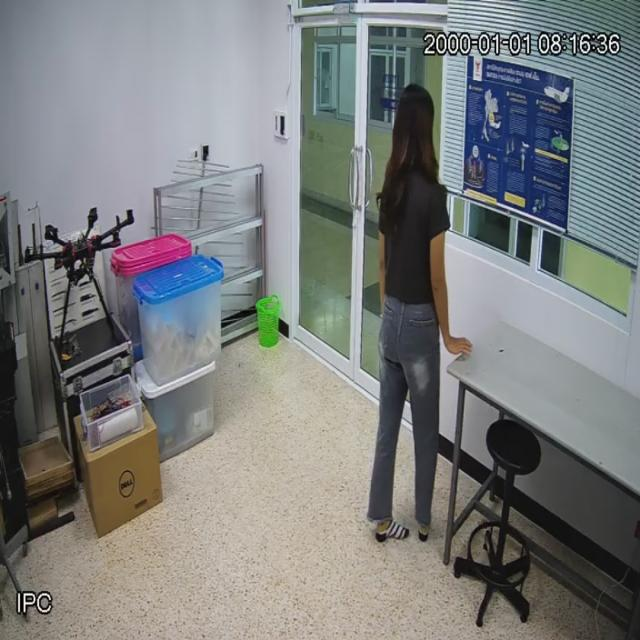normal: (372, 86, 450, 521)
